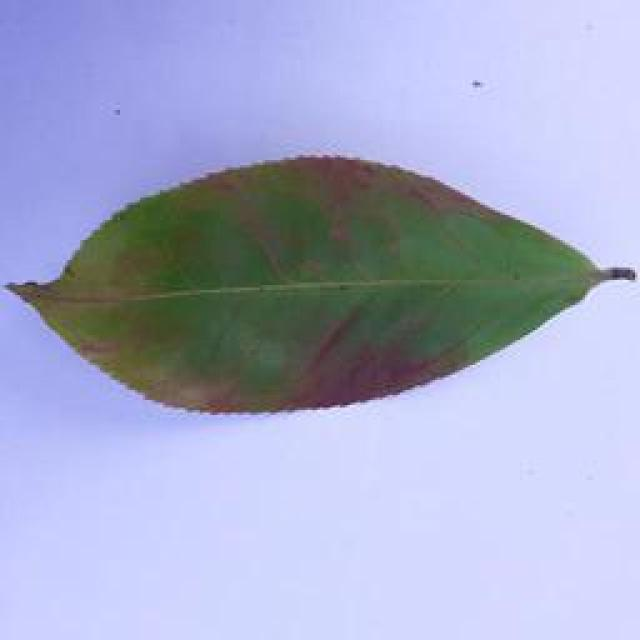Red Leaf Spot: (0, 150, 634, 424)
